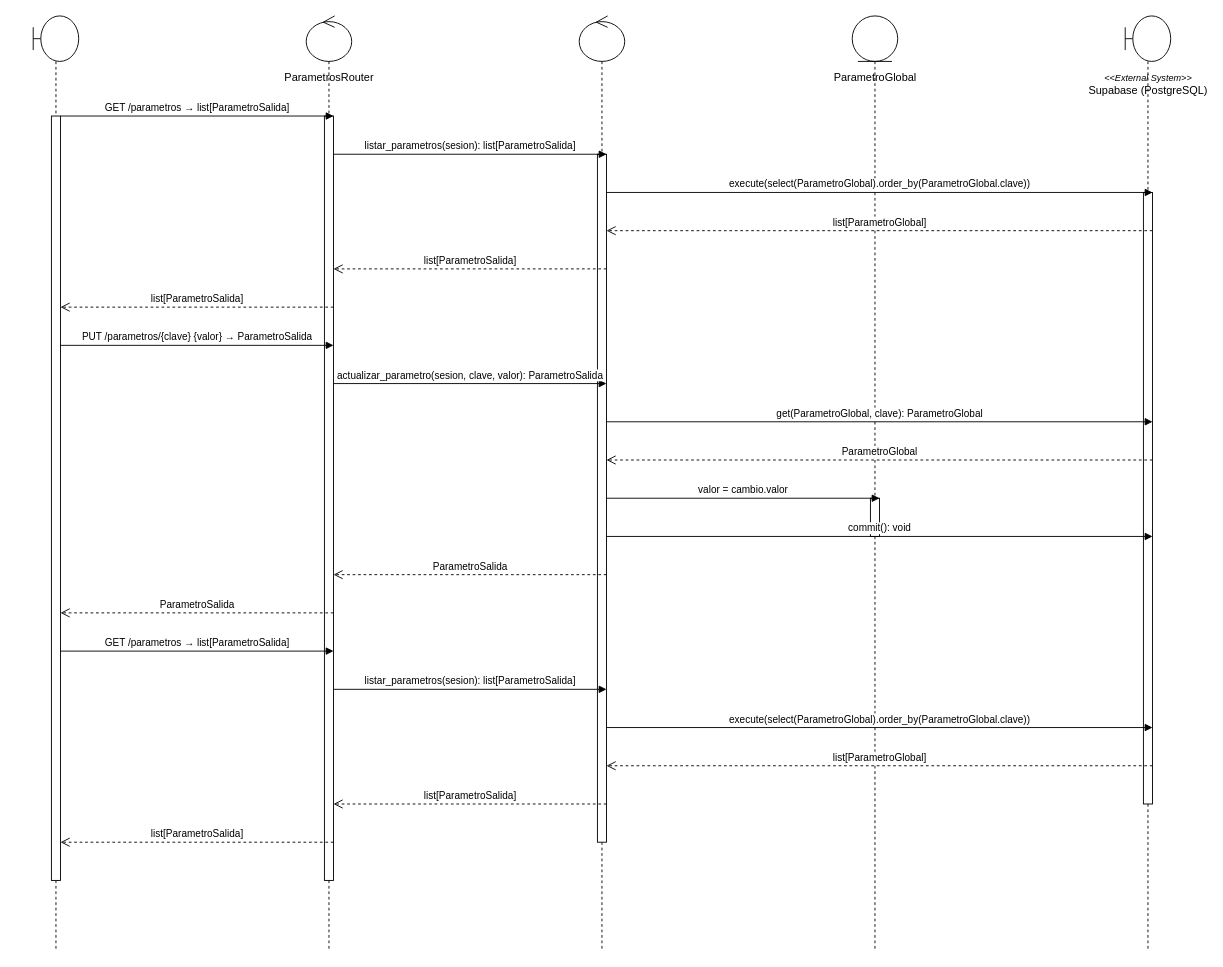
Some shapes in this 1223 by 967 pixel diagram are drawn without their labels. The shapes that lost their labels are listed below. From the top down, each one's box as (x1, y1, x2, y2) in pixels, then its label:
(32, 15, 79, 951): AppWeb (React)
(578, 15, 625, 951): GestionService
